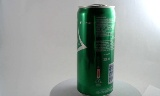sprite: (71, 3, 109, 95)
